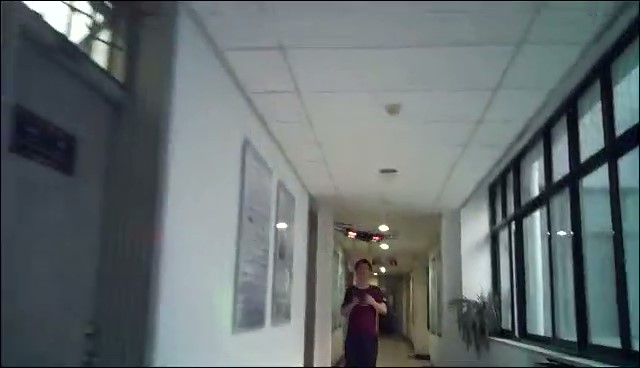drone: (332, 221, 398, 251)
person: (340, 257, 388, 368)
